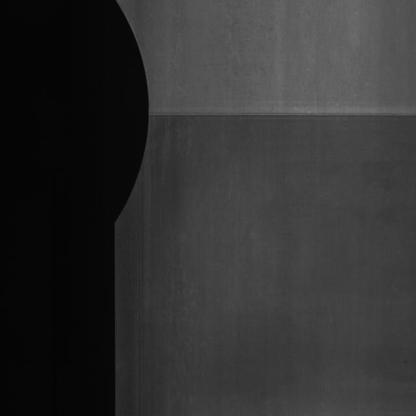welding_line: (138, 101, 416, 136)
